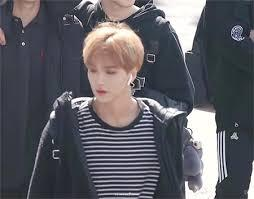earphone: (126, 74, 135, 86)
